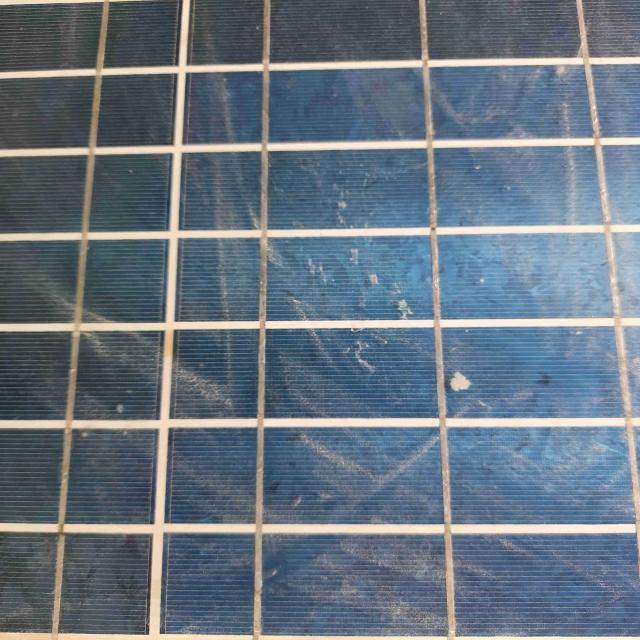dust-solar-panel: (6, 2, 640, 638)
